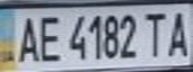1: (84, 10, 106, 60)
2: (118, 10, 142, 60)
4: (63, 10, 87, 61)
8: (103, 10, 124, 61)
A: (12, 11, 42, 64), (163, 7, 193, 60)
E: (33, 11, 63, 63)
T: (139, 8, 169, 60)
